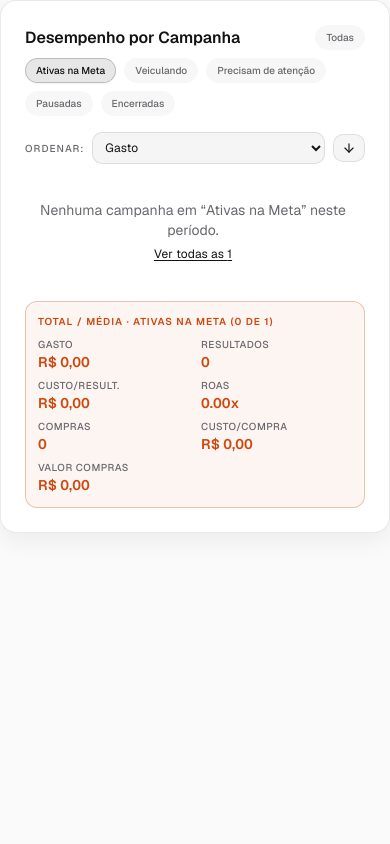
Scenario: CampaignsTable — o filtro que mentia › a tela abre nas ativas, e o vazio oferece a saída em vez de só zerar
expect the text "Nenhuma campanha em “Ativas na Meta” neste período." is shown: met, box [25,200,361,240]
What coordinates should you click on to do the following:
click the button "Ver todas as 1"
I would click on:
 (193, 254)
Its box is [154,246,232,262].
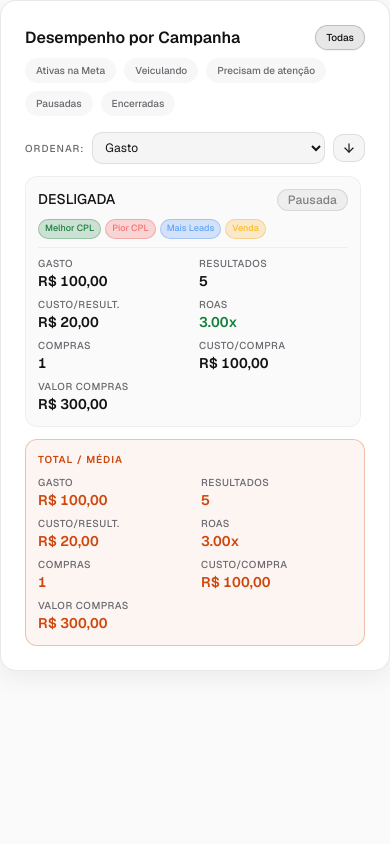
expect the text "Nenhuma campanha em" is not shown: met
expect the text "DESLIGADA" is shown: met, box [38,190,116,208]
